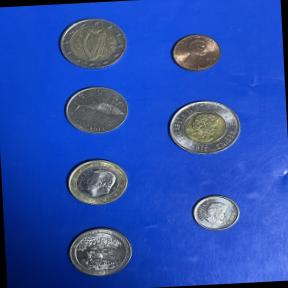1 Euro-B: (61, 155, 132, 212)
2 Euro-B: (56, 14, 134, 74)
Canada-10cent-B: (187, 192, 246, 236)
Canada-2Dollar-B: (162, 96, 247, 162)
Croatia-2Kune-B: (57, 83, 134, 140)
US-1cent-B: (168, 30, 226, 76)
US-25cent-B: (61, 224, 137, 282)
